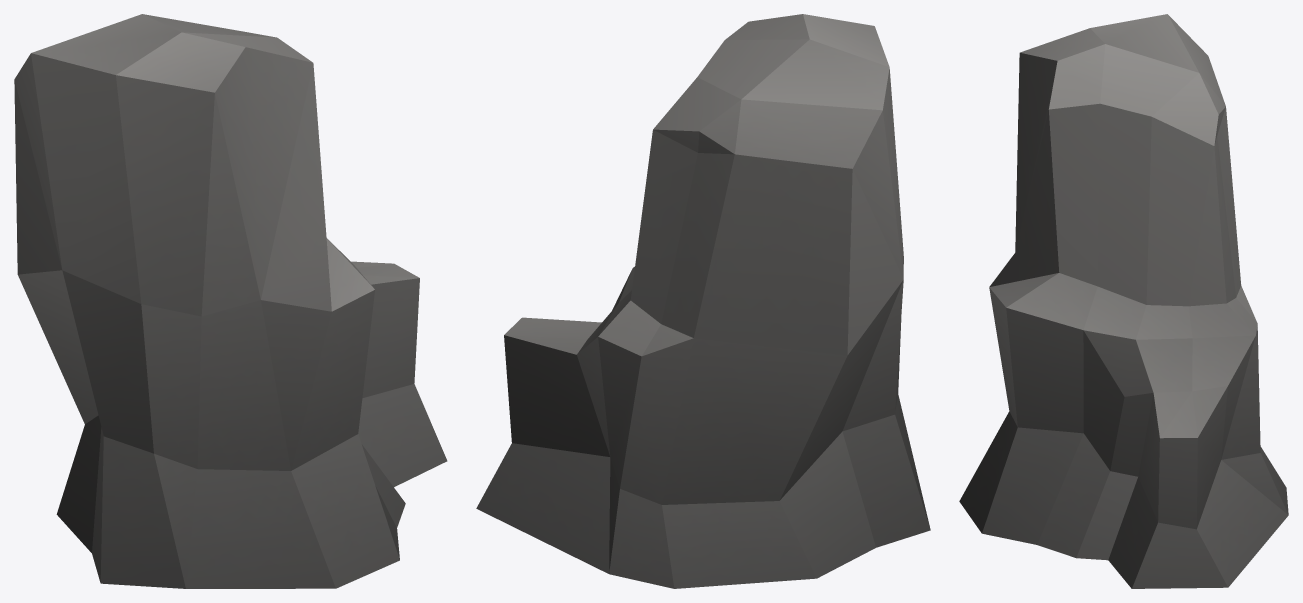
The model's file is RockPlainGrey2.fbx.
3 views of the same model, side by side, from view 1: azimuth 30°, elevation 25°; view 2: azimuth 150°, elevation 25°; view 3: azimuth 270°, elevation 25° (orthographic). The views are drawn at different scales.
Visible parts, largest first — view 1: RockPlainGrey2; view 2: RockPlainGrey2; view 3: RockPlainGrey2.
Boxes of the visible parts, box(x1,y1,x2,y2) form: RockPlainGrey2: box(14, 14, 447, 588); RockPlainGrey2: box(476, 14, 930, 588); RockPlainGrey2: box(959, 14, 1288, 588).
Bounding box in the file's own units: 77.07 × 94.98 × 65.95.
